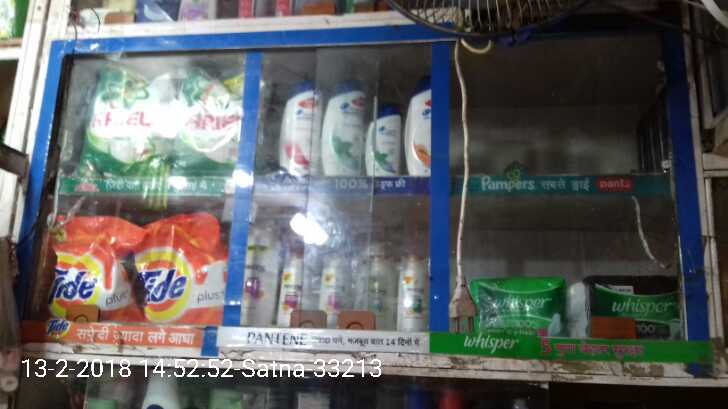beauty: (275, 77, 319, 172), (242, 211, 277, 327), (323, 82, 362, 176), (403, 82, 438, 185), (363, 105, 404, 178), (395, 253, 426, 331), (319, 247, 348, 326), (277, 243, 304, 323)
home: (76, 63, 171, 177), (43, 211, 130, 324), (126, 221, 213, 327), (170, 72, 249, 171)
pharmacy: (580, 271, 683, 341), (469, 277, 561, 342)
